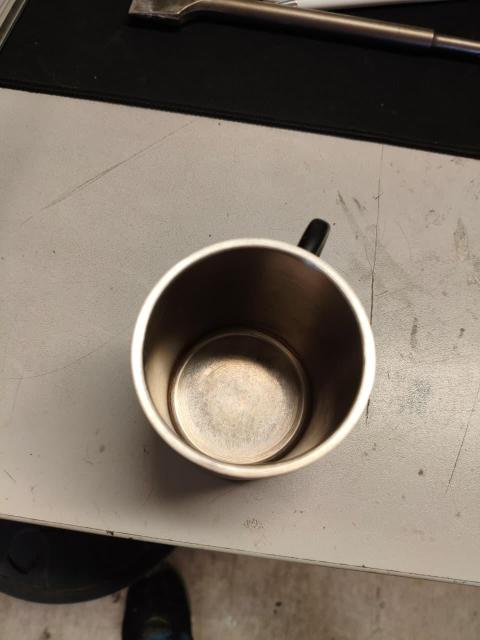Metal: (135, 223, 375, 480)
